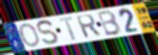2: (118, 6, 143, 35)
B: (97, 9, 123, 37)
O: (19, 23, 42, 48)
R: (75, 13, 103, 39)
S: (37, 19, 60, 46)
T: (58, 16, 78, 42)
